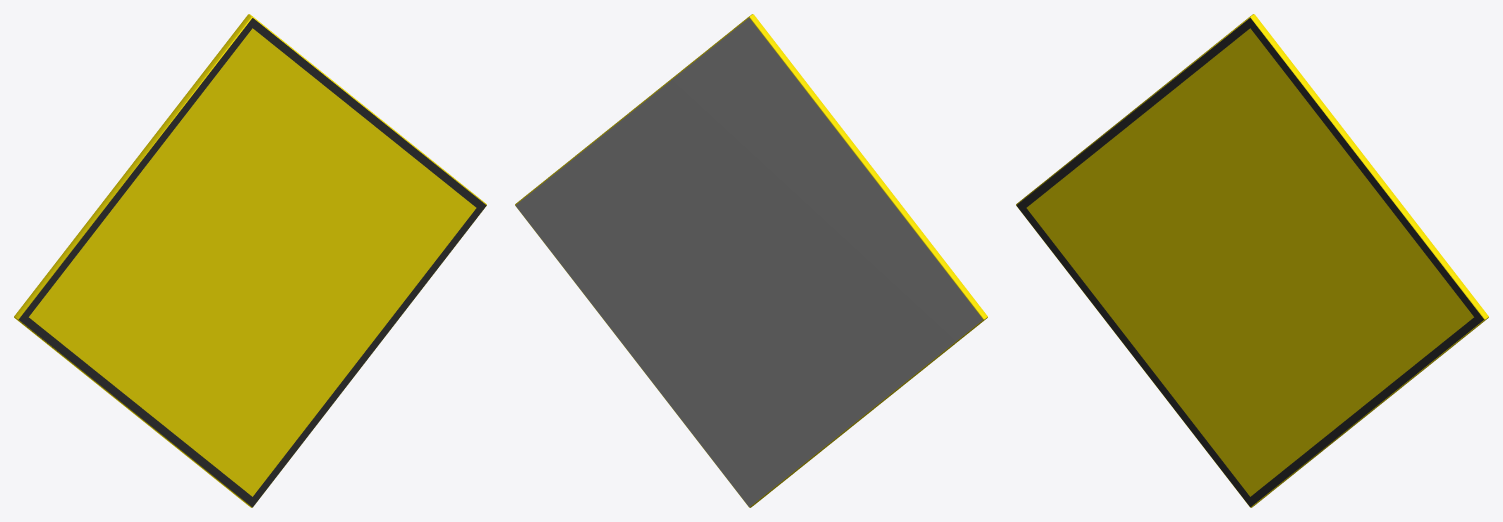
File: signYellow.fbx
The picture shows the model from 3 angles, left to right: view 1: azimuth 30°, elevation 25°; view 2: azimuth 150°, elevation 25°; view 3: azimuth 330°, elevation 25°; orthographic projection.
Visible parts, largest first — view 1: signYellow_geo; view 2: signYellow_geo; view 3: signYellow_geo.
Part boxes in pixels (left/top/right/bottom): signYellow_geo: left=14, top=14, right=486, bottom=507; signYellow_geo: left=515, top=14, right=987, bottom=507; signYellow_geo: left=1016, top=14, right=1488, bottom=507.
Size of the model in its own units: 86.18 by 86.18 by 1.37.
